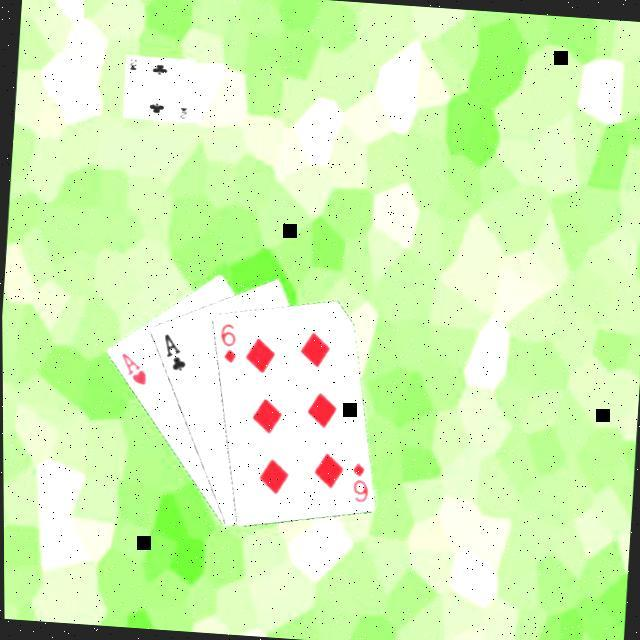6D: (213, 318, 238, 366), (346, 457, 371, 504)
AC: (156, 328, 188, 372)
AH: (112, 348, 148, 388)
